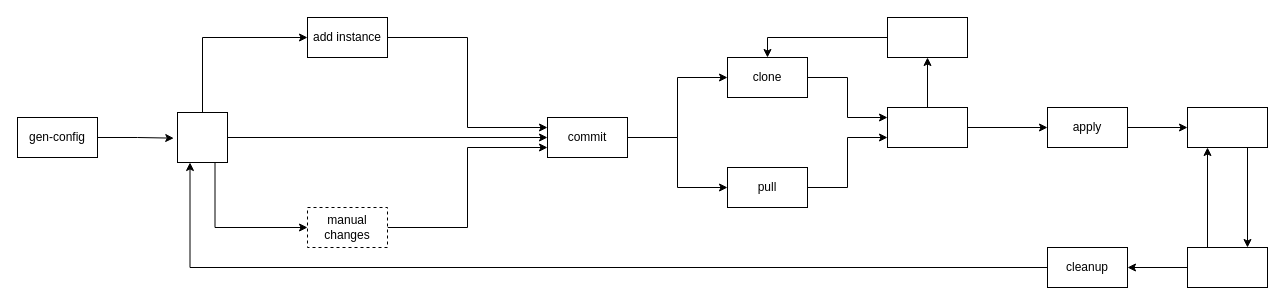
Some shapes in this 1285 by 305 pixel diagram are drawn without their labels. Each missing label, with the centre of its shape:
install: the point at 927,127
start: the point at 1227,127
stop: the point at 1227,267
uninstall: the point at 927,37
